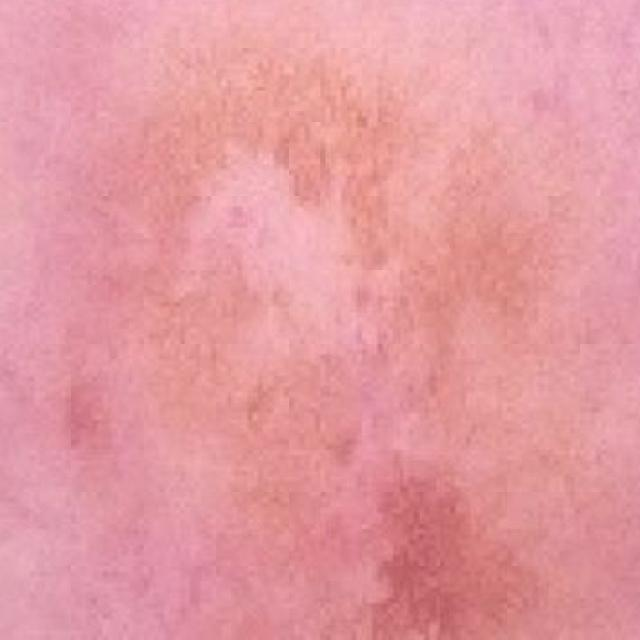DF: (27, 11, 640, 640)
